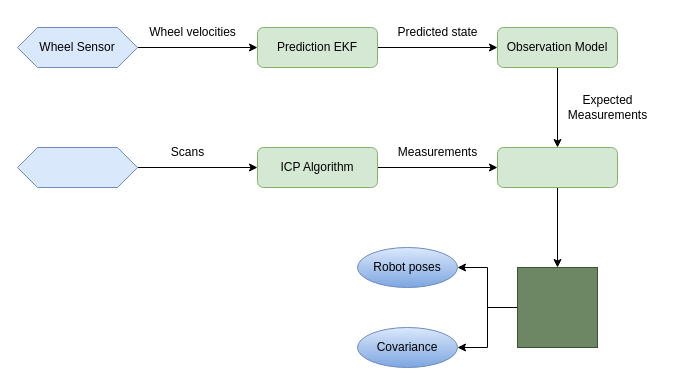
The diagram is 675 pixels wide and 385 high, and some of its shapes have lost their labels. Each missing label, with the centre of its shape:
"Lidar Scans" belongs at (x=77, y=167).
"MAP" belongs at (x=557, y=307).
"Update EKF" belongs at (x=557, y=167).
